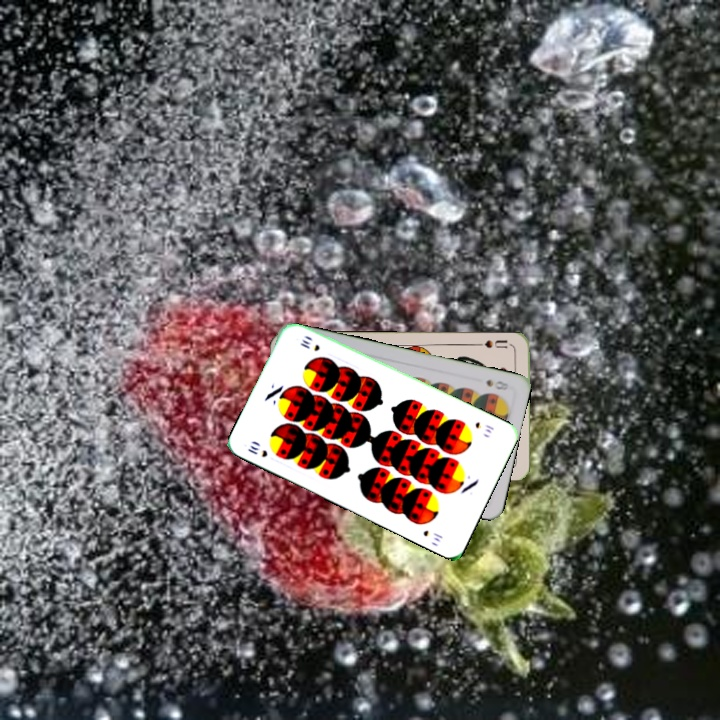S10: (243, 441, 270, 460), (471, 418, 497, 436)
S8: (482, 375, 511, 393)
SU: (473, 336, 514, 350)
